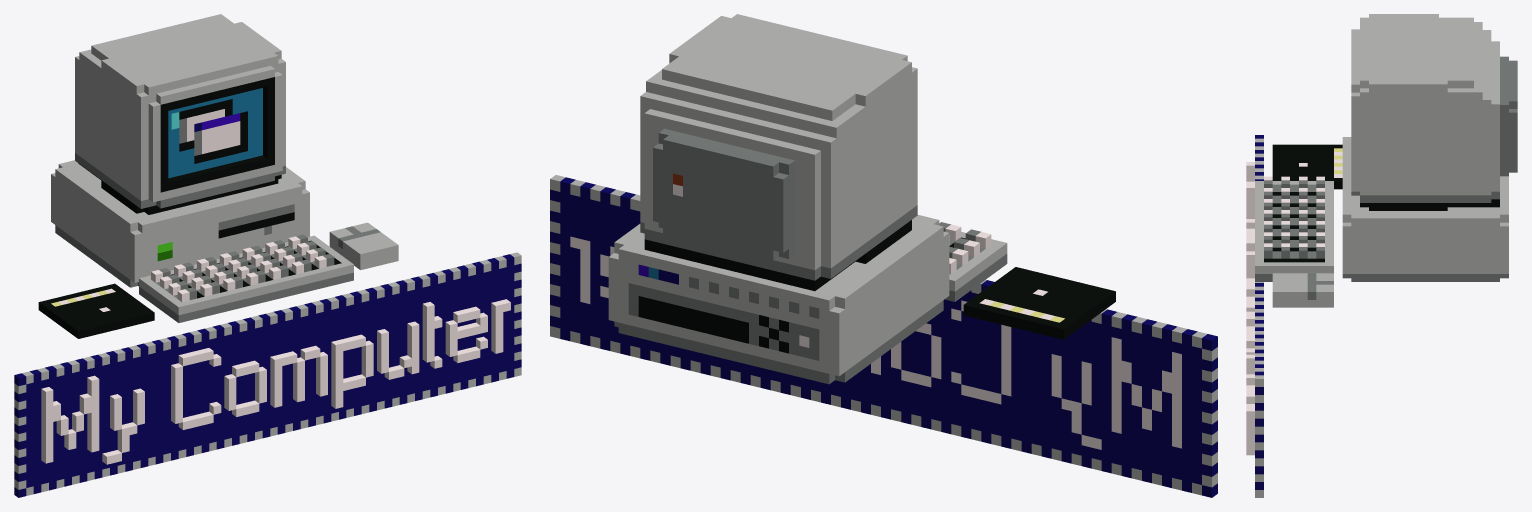
3 views of the same model, side by side, from view 1: azimuth 30°, elevation 25°; view 2: azimuth 150°, elevation 25°; view 3: azimuth 270°, elevation 25° (orthographic). The views are drawn at different scales.
Parts seen in each view (by area): view 1: Object_2; view 2: Object_2; view 3: Object_2.
Boxes of the visible parts, x1,y1,x2,y2 form: Object_2: [14, 14, 521, 497]; Object_2: [550, 14, 1217, 497]; Object_2: [1246, 14, 1517, 497].
Bounding box in the file's own units: 6.6 × 4.1 × 3.1.
Materials: 1 (1 with a texture image).
